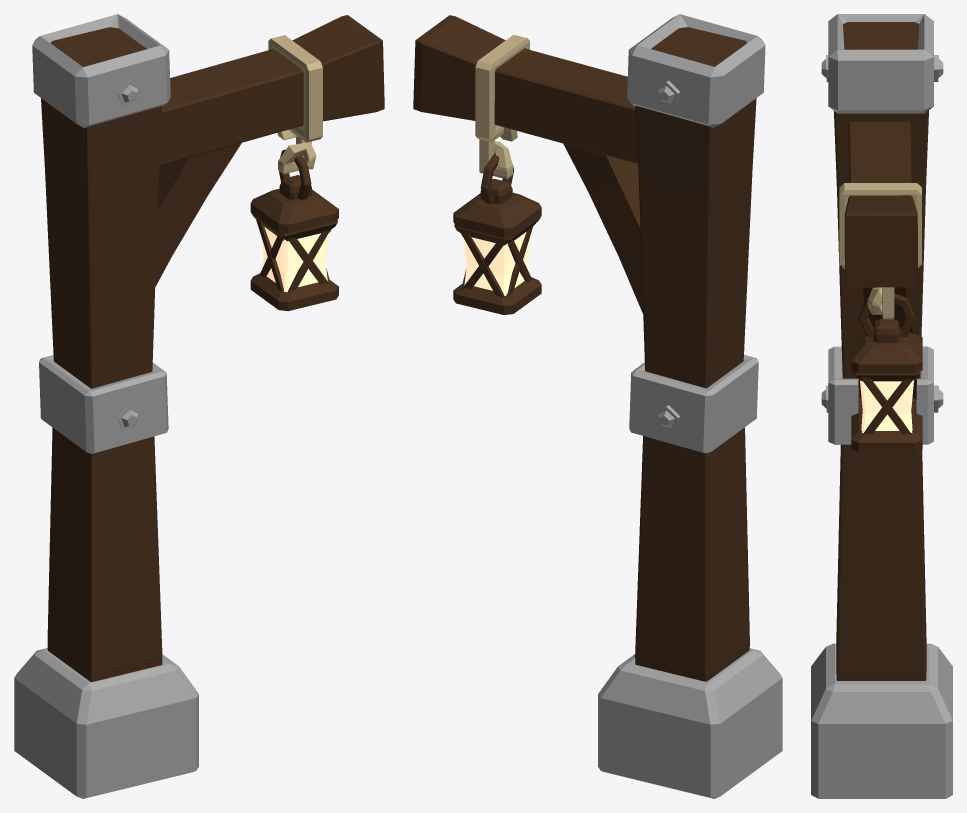
The model's file is Lantern post.fbx.
3 views of the same model, side by side, from view 1: azimuth 30°, elevation 25°; view 2: azimuth 150°, elevation 25°; view 3: azimuth 270°, elevation 25° (orthographic).
Visible parts, largest first — view 1: Cube.001, Cube.002, Cube.042, Cube.075, Cube.045, Cube.043, Cube.065, Cube.044, Cube.066, Cube.189, Cube.046; view 2: Cube.001, Cube.002, Cube.042, Cube.075, Cube.045, Cube.043, Cube.065, Cube.044, Cube.066, Cube.189, Cube.046; view 3: Cube.001, Cube.002, Cube.042, Cube.075, Cube.045, Cube.065, Cube.066, Cube.044, Cube.189, Cylinder.011, Cube.046, Cube.074 (+3 smaller).
Boxes of the visible parts, x1=… form: Cube.001: x1=41, y1=27, x2=162, y2=681; Cube.002: x1=14, y1=648, x2=198, y2=798; Cube.042: x1=159, y1=15, x2=384, y2=165; Cube.075: x1=32, y1=14, x2=170, y2=128; Cube.045: x1=39, y1=355, x2=168, y2=453; Cube.043: x1=155, y1=126, x2=251, y2=286; Cube.065: x1=250, y1=188, x2=338, y2=233; Cube.044: x1=268, y1=35, x2=322, y2=142; Cube.066: x1=251, y1=213, x2=337, y2=292; Cube.189: x1=250, y1=273, x2=338, y2=311; Cube.046: x1=277, y1=129, x2=316, y2=174; Cube.001: x1=635, y1=27, x2=756, y2=681; Cube.002: x1=598, y1=648, x2=782, y2=798; Cube.042: x1=413, y1=15, x2=637, y2=163; Cube.075: x1=627, y1=14, x2=765, y2=127; Cube.045: x1=629, y1=354, x2=758, y2=453; Cube.043: x1=563, y1=143, x2=643, y2=313; Cube.065: x1=453, y1=192, x2=541, y2=237; Cube.044: x1=475, y1=34, x2=529, y2=141; Cube.066: x1=454, y1=217, x2=540, y2=295; Cube.189: x1=453, y1=277, x2=541, y2=314; Cube.046: x1=479, y1=127, x2=517, y2=179; Cube.001: x1=834, y1=22, x2=928, y2=680; Cube.002: x1=811, y1=643, x2=952, y2=798; Cube.042: x1=844, y1=121, x2=917, y2=287; Cube.075: x1=828, y1=14, x2=933, y2=113; Cube.045: x1=828, y1=346, x2=933, y2=444; Cube.065: x1=851, y1=332, x2=922, y2=373; Cube.066: x1=853, y1=371, x2=920, y2=433; Cube.044: x1=839, y1=183, x2=921, y2=269; Cube.189: x1=851, y1=413, x2=922, y2=451; Cylinder.011: x1=859, y1=293, x2=914, y2=337; Cube.046: x1=867, y1=287, x2=894, y2=319; Cube.074: x1=873, y1=319, x2=899, y2=342.
Size of the model in its own units: 77.23 by 166 by 28.94.
